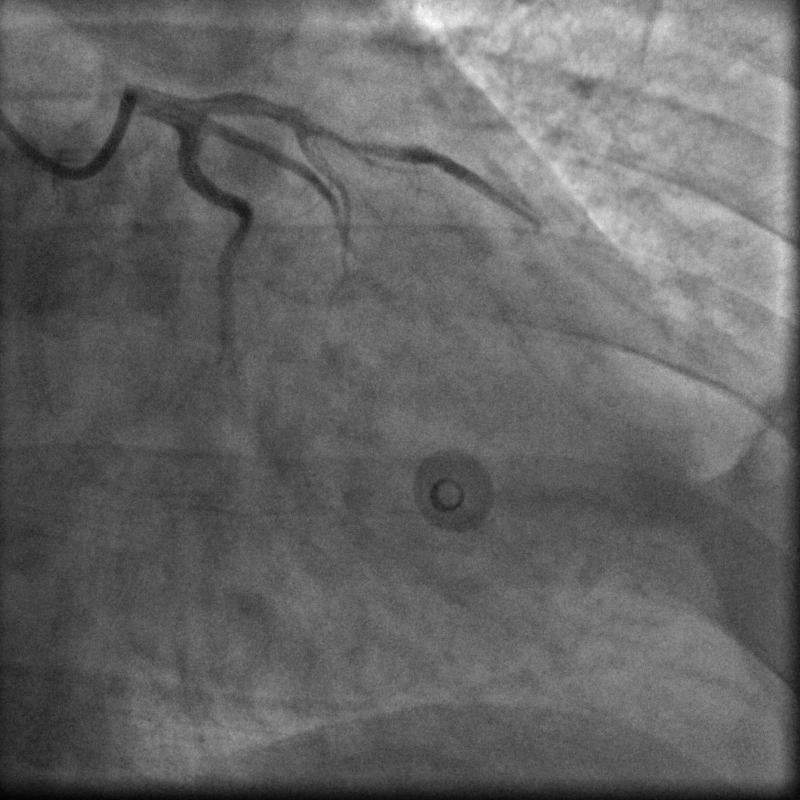Stenosis: (312, 123, 400, 162)
